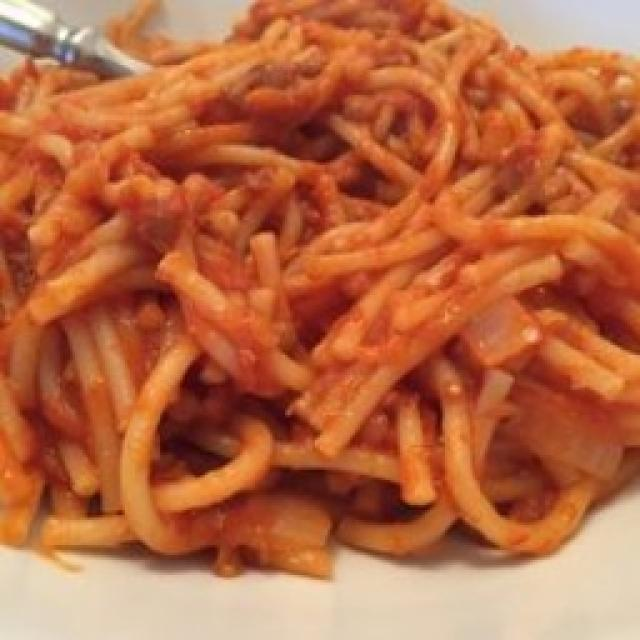Pasta: (0, 0, 640, 612)
